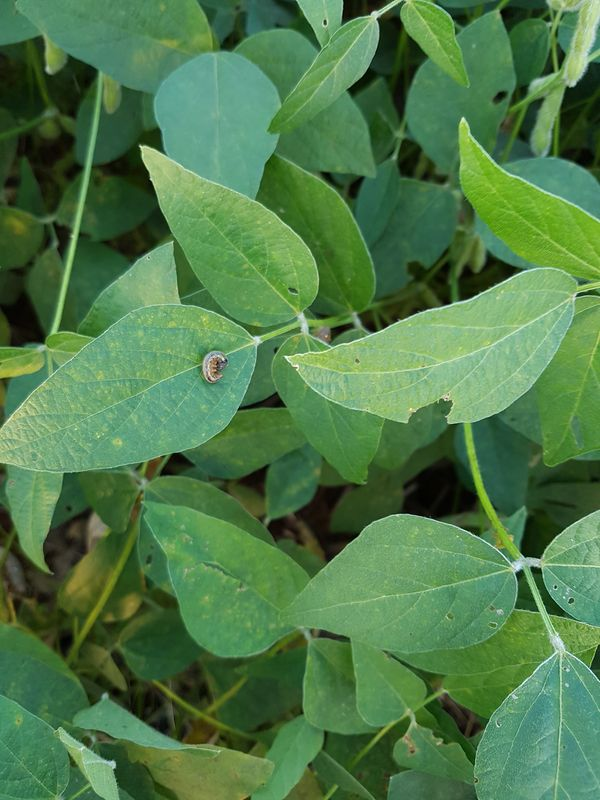Spodoptera_albula: (190, 341, 238, 395)
